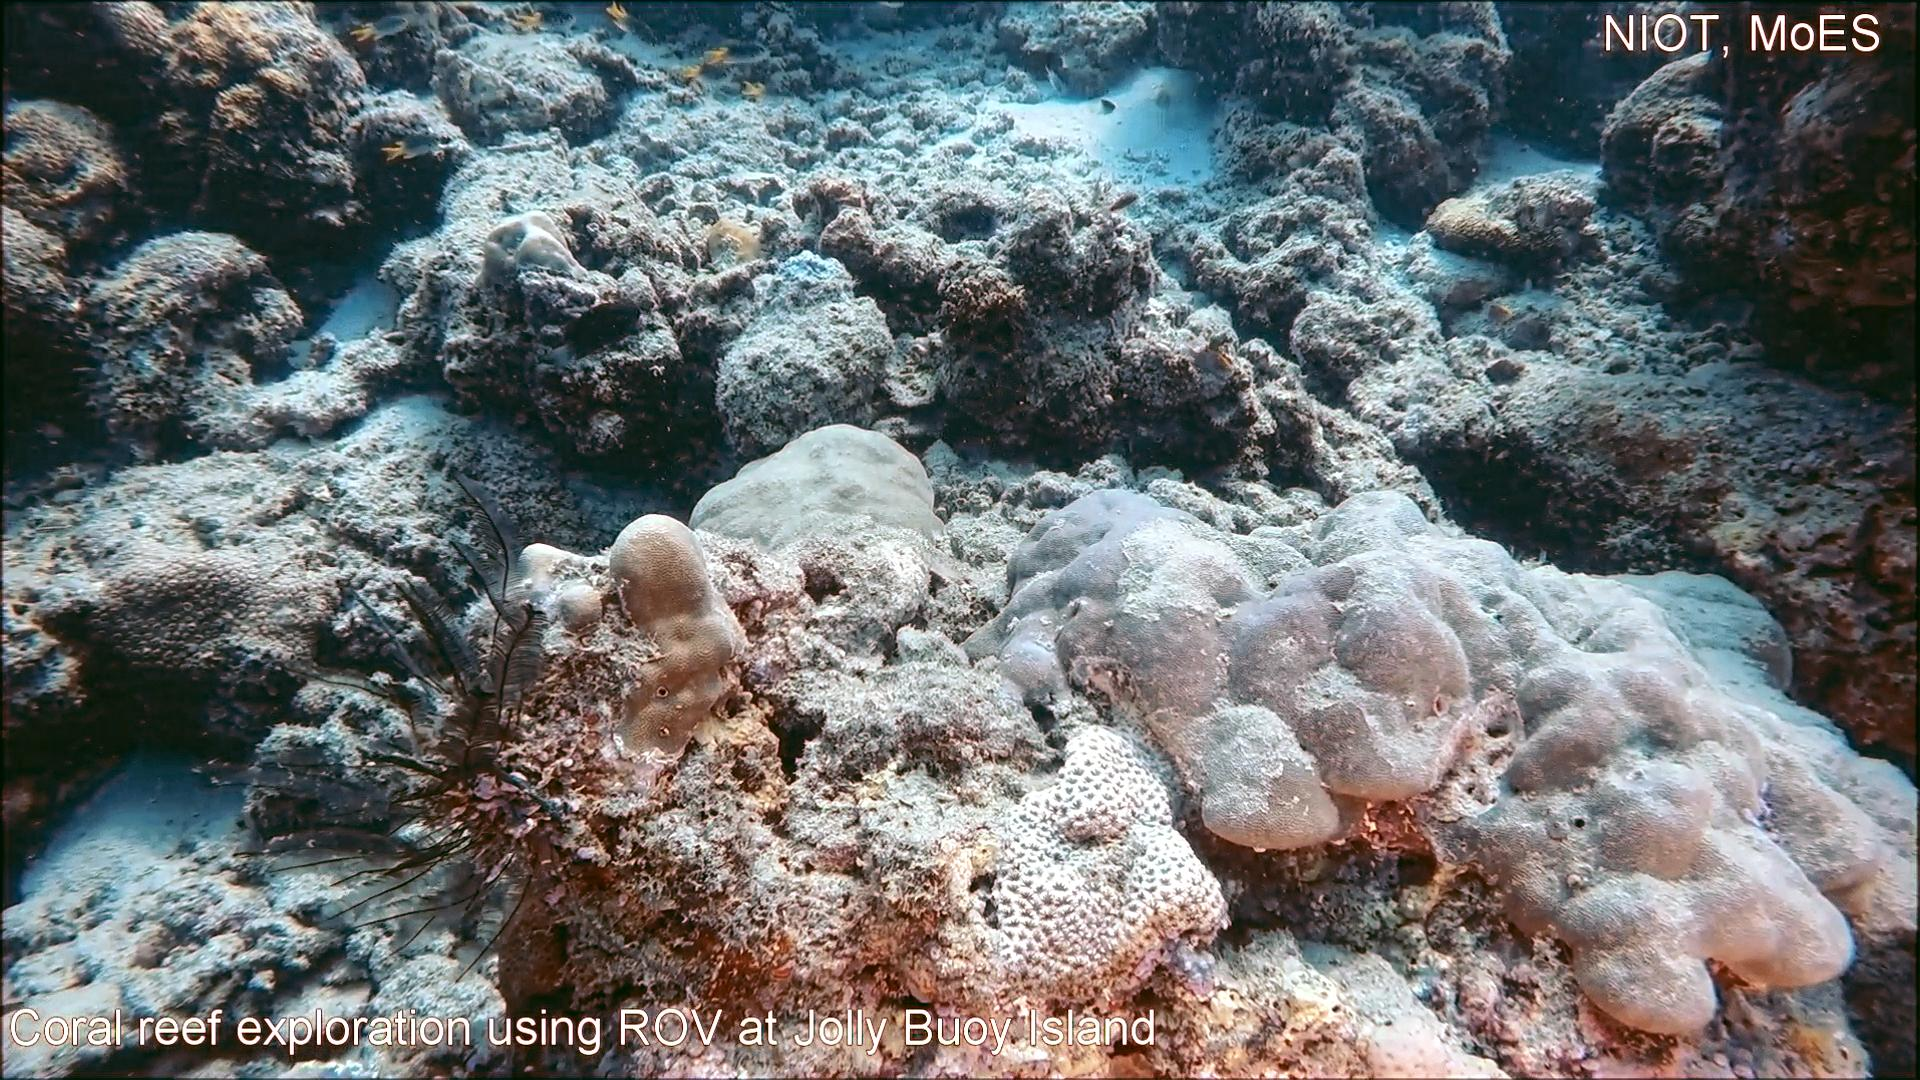Feather star-Crinoid star: (186, 460, 579, 994)
Goniastrea-Goniastrea pectinata: (990, 711, 1238, 1018)
Porites-Porites pukoensis: (1332, 483, 1920, 1047)
Turbinaria-Turbinaria stellulata: (70, 541, 349, 704)
